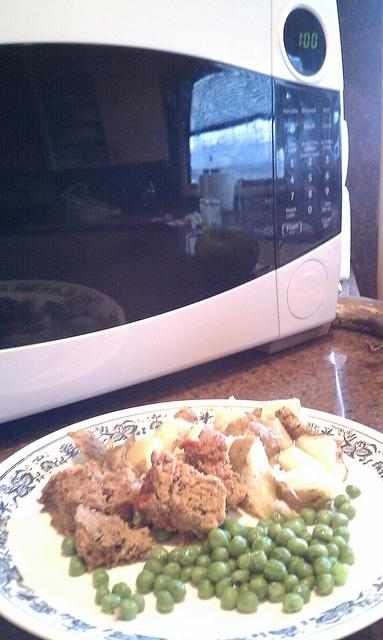pea: (262, 558, 288, 582), (226, 536, 249, 562), (251, 534, 273, 560), (236, 590, 259, 614), (302, 544, 329, 564), (270, 546, 292, 570), (208, 528, 229, 552), (250, 574, 268, 602), (166, 579, 187, 602), (136, 570, 156, 594), (101, 592, 122, 614), (330, 562, 349, 586), (266, 582, 286, 604), (152, 574, 172, 596), (148, 546, 170, 566), (224, 520, 246, 540), (315, 573, 334, 596), (250, 550, 268, 574), (156, 590, 174, 614), (177, 545, 198, 565), (283, 592, 304, 612), (91, 566, 110, 588), (221, 586, 238, 610), (118, 598, 138, 618), (161, 560, 181, 580), (287, 538, 308, 557), (282, 573, 300, 595), (198, 578, 216, 600), (313, 523, 333, 542), (246, 526, 267, 544), (111, 582, 132, 600), (69, 554, 86, 576), (315, 508, 334, 527), (276, 528, 295, 547), (292, 584, 310, 604), (286, 556, 306, 574), (208, 562, 226, 582), (142, 559, 162, 577), (340, 544, 356, 566), (282, 521, 304, 537), (191, 566, 208, 586), (313, 556, 331, 574), (340, 502, 356, 522), (332, 527, 350, 544), (210, 546, 229, 562), (179, 564, 194, 584), (95, 586, 110, 606), (131, 593, 145, 614), (296, 562, 314, 578), (232, 569, 250, 585), (298, 575, 316, 591), (300, 508, 316, 526), (62, 536, 76, 556), (329, 536, 346, 552), (325, 542, 340, 560), (268, 511, 286, 526), (267, 523, 282, 541), (345, 484, 361, 500), (334, 494, 351, 509), (332, 514, 350, 528), (194, 554, 212, 568), (226, 556, 240, 574), (235, 552, 250, 568), (155, 527, 172, 541), (236, 582, 252, 596), (308, 538, 328, 548), (202, 539, 213, 556), (257, 519, 275, 529), (168, 548, 180, 562), (132, 512, 144, 525), (328, 556, 340, 568), (192, 544, 202, 556), (223, 530, 232, 542)
potato: (228, 436, 300, 522), (274, 445, 334, 514), (67, 430, 108, 475), (295, 434, 337, 474), (244, 422, 282, 466), (256, 412, 294, 451), (124, 438, 164, 474), (214, 405, 257, 437), (274, 406, 313, 440), (152, 419, 180, 450), (86, 298, 116, 320), (172, 404, 198, 425), (66, 316, 102, 331), (184, 420, 205, 442), (32, 330, 56, 344)
